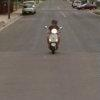Motorcycle: (40, 15, 76, 55)
